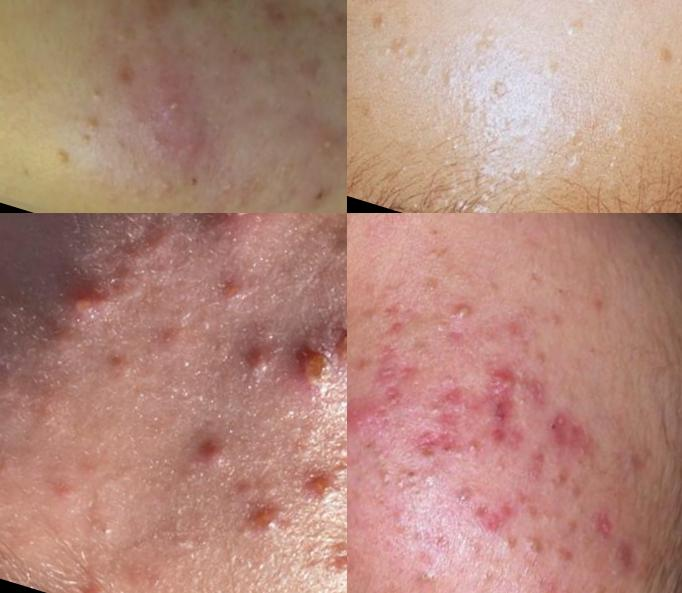acne_scars: (415, 372, 533, 450), (469, 494, 527, 550), (348, 392, 387, 443), (137, 1, 193, 18)
cystic: (286, 336, 344, 402), (320, 302, 348, 374)
flat_wart: (415, 112, 574, 214), (348, 1, 468, 105), (639, 30, 682, 74), (548, 20, 603, 50), (484, 71, 521, 111), (661, 70, 682, 115)
papular: (175, 125, 220, 174), (161, 87, 192, 124)
purulent: (291, 460, 348, 520), (67, 274, 122, 332), (194, 422, 244, 482), (241, 317, 285, 385), (250, 506, 306, 558), (444, 286, 492, 339)
sebo-crystan-conglo: (594, 525, 655, 586), (534, 402, 589, 465), (479, 357, 532, 409), (408, 550, 455, 593), (512, 521, 552, 560), (531, 581, 594, 593)
whitehead: (206, 263, 270, 321), (369, 452, 432, 508), (78, 497, 130, 555), (43, 468, 92, 515), (441, 430, 493, 474), (68, 109, 116, 156), (438, 470, 486, 517), (602, 106, 649, 146), (312, 124, 348, 175), (81, 66, 125, 106), (46, 145, 89, 182), (527, 503, 569, 537), (148, 168, 185, 203), (70, 567, 119, 593), (326, 530, 348, 581), (541, 467, 572, 500), (425, 315, 458, 345)
